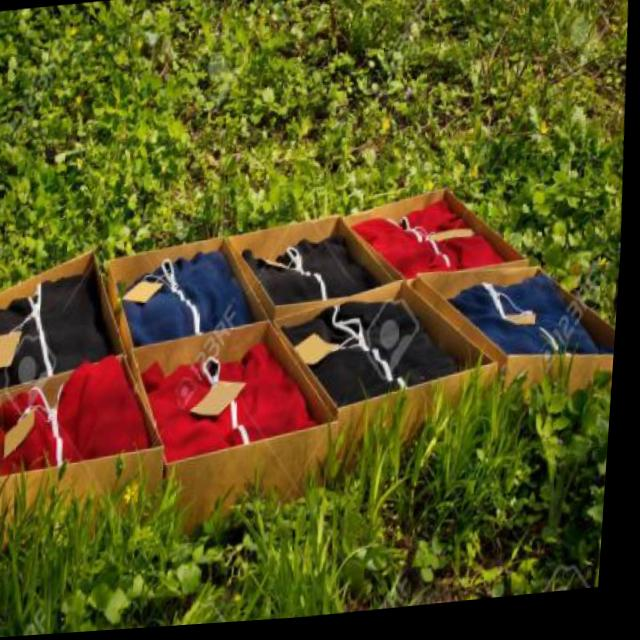box: (126, 313, 361, 556), (267, 274, 523, 482), (430, 242, 626, 490), (0, 338, 188, 586), (93, 203, 280, 367), (341, 157, 543, 290), (226, 198, 414, 325), (0, 239, 123, 393)
